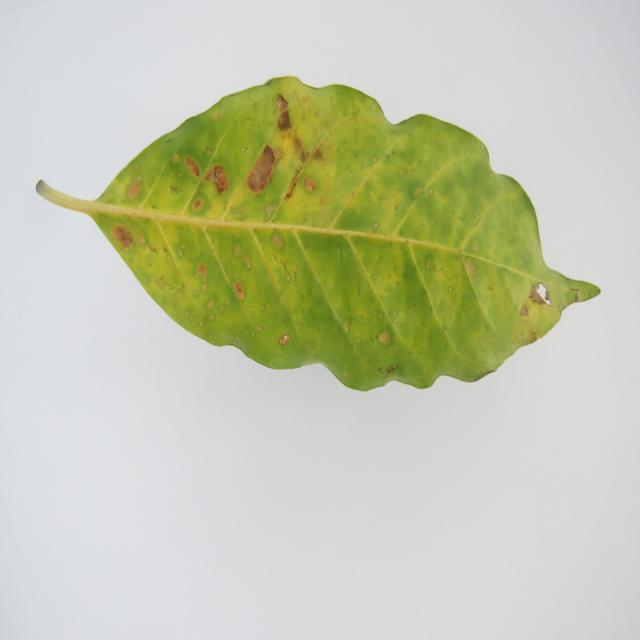DeficienciaNutricional-Calcio: (36, 77, 599, 390)
